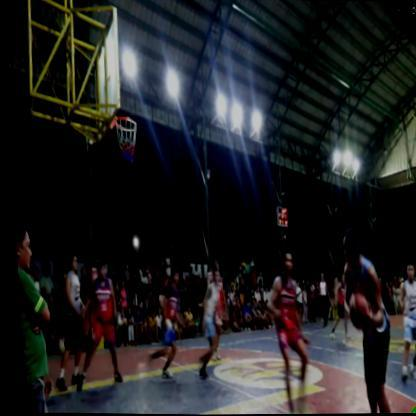basketball: (338, 290, 367, 335)
rim: (98, 80, 147, 174)
